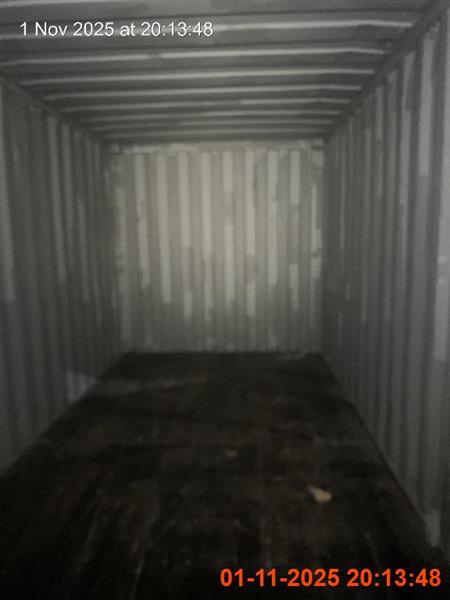broken: (0, 349, 449, 598)
